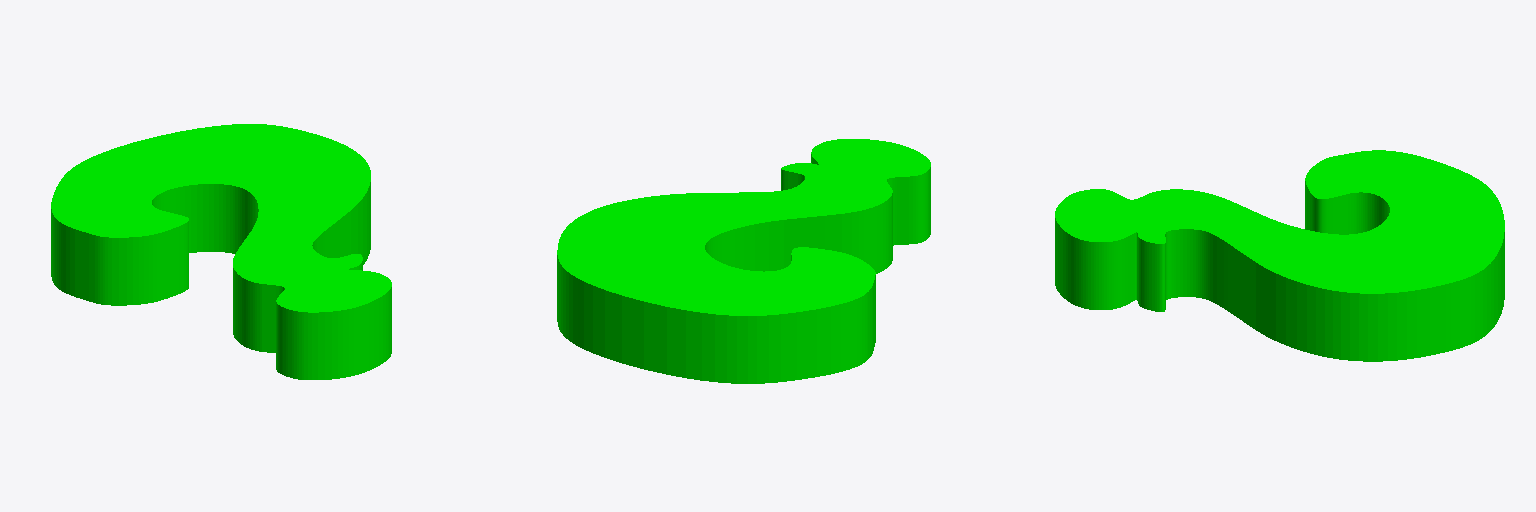
Rendered from question.obj.
The picture shows the model from 3 angles: view 1: azimuth 30°, elevation 25°; view 2: azimuth 150°, elevation 25°; view 3: azimuth 270°, elevation 25°; orthographic projection.
Parts seen in each view (by area): view 1: Part_1; view 2: Part_1; view 3: Part_1.
Boxes of the visible parts, x1,y1,x2,y2 form: Part_1: [51, 124, 391, 379]; Part_1: [557, 139, 930, 383]; Part_1: [1055, 150, 1504, 361].
Size of the model in its own units: 0.1151 by 0.0254 by 0.1526.